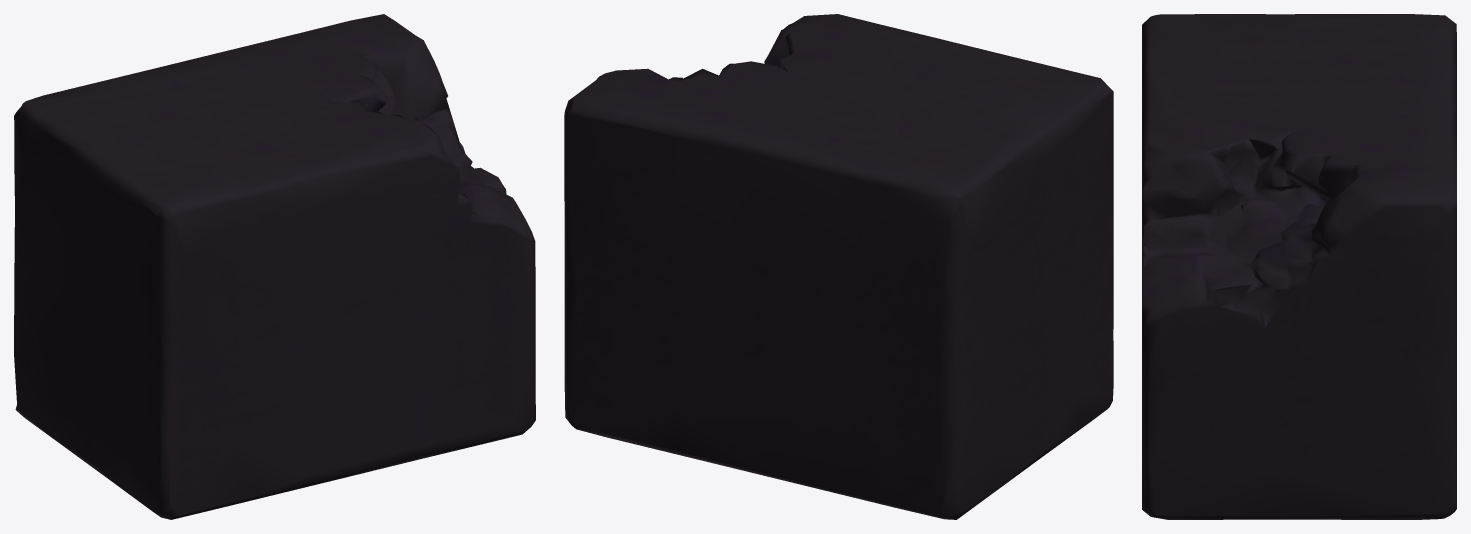
Rendered from shattered-wall-mass.glb.
3 renders of one model, left to right at view 1: azimuth 30°, elevation 25°; view 2: azimuth 150°, elevation 25°; view 3: azimuth 270°, elevation 25°, orthographic. The views are drawn at different scales.
Visible parts, largest first — view 1: tripo_node_9c40e609-fe55-44c4-8a69-e47e7946f9cd; view 2: tripo_node_9c40e609-fe55-44c4-8a69-e47e7946f9cd; view 3: tripo_node_9c40e609-fe55-44c4-8a69-e47e7946f9cd.
Boxes of the visible parts, x1,y1,x2,y2 form: tripo_node_9c40e609-fe55-44c4-8a69-e47e7946f9cd: (14,14,535,519); tripo_node_9c40e609-fe55-44c4-8a69-e47e7946f9cd: (564,14,1113,519); tripo_node_9c40e609-fe55-44c4-8a69-e47e7946f9cd: (1142,14,1456,519).
Bounding box in the file's own units: 0.978 × 0.7928 × 0.6871.
Materials: 1 (1 with a texture image).
